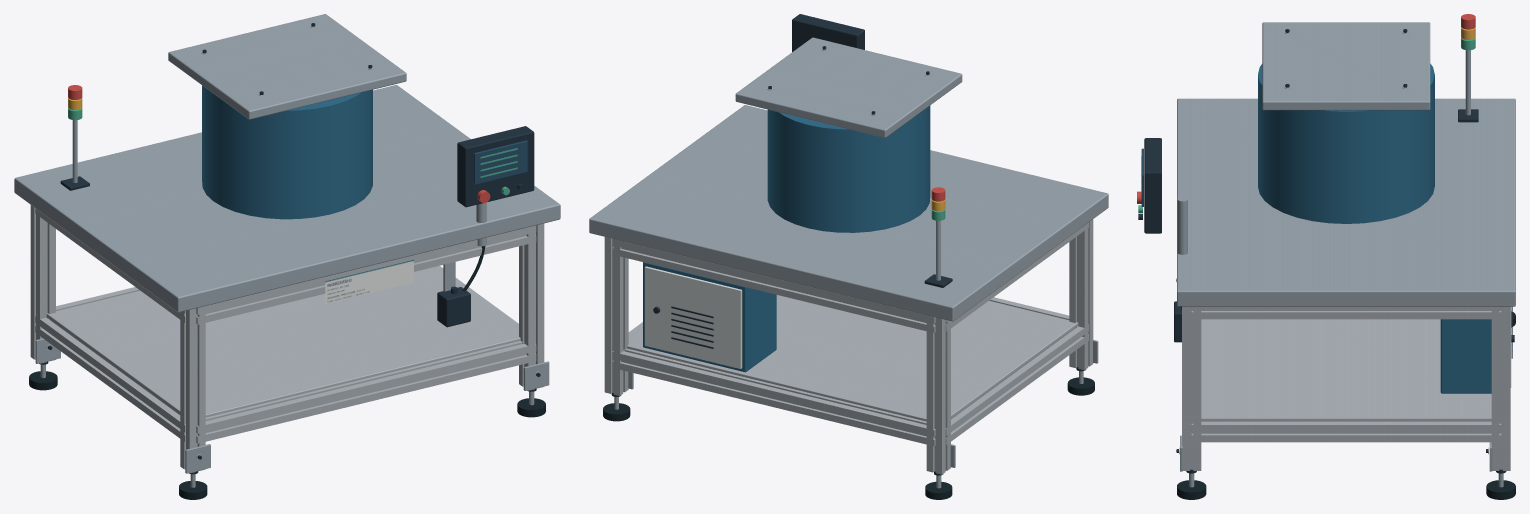
The model's file is vibration-test-cell.glb.
3 renders of one model, left to right at view 1: azimuth 30°, elevation 25°; view 2: azimuth 150°, elevation 25°; view 3: azimuth 270°, elevation 25°, orthographic. The views are drawn at different scales.
Visible parts, largest first — view 1: ClosedMachineBed_40, LowerShelf_41, ShakerBody_71, SpecimenTable_72, SlottedExtrusion_34, SlottedExtrusion_35, SlottedExtrusion_11, SlottedExtrusion_36, SlottedExtrusion_27, ConsoleBack_52, SlottedExtrusion_3, OriginalNameplate_65 (+5 smaller); view 2: ClosedMachineBed_40, LowerShelf_41, ShakerBody_71, SpecimenTable_72, BackDoor_43, SlottedExtrusion_32, SlottedExtrusion_33, SlottedExtrusion_3, SlottedExtrusion_19, Cabinet_42, SlottedExtrusion_36, SlottedExtrusion_11 (+2 smaller); view 3: ClosedMachineBed_40, LowerShelf_41, ShakerBody_71, SpecimenTable_72, SlottedExtrusion_38, SlottedExtrusion_39, Cabinet_42, SlottedExtrusion_27, SlottedExtrusion_19, ConsoleBack_52, ConsoleBracket_51, RubberFoot_16 (+1 smaller).
Boxes of the visible parts, <box> form: ClosedMachineBed_40: <box>14,85,560,312</box>; LowerShelf_41: <box>46,267,520,417</box>; ShakerBody_71: <box>202,85,372,219</box>; SpecimenTable_72: <box>168,14,406,119</box>; SlottedExtrusion_34: <box>196,341,536,443</box>; SlottedExtrusion_35: <box>196,225,536,324</box>; SlottedExtrusion_11: <box>180,306,205,473</box>; SlottedExtrusion_36: <box>35,315,185,442</box>; SlottedExtrusion_27: <box>519,223,544,390</box>; ConsoleBack_52: <box>457,126,534,207</box>; SlottedExtrusion_3: <box>30,205,55,363</box>; OriginalNameplate_65: <box>325,260,413,304</box>; ClosedMachineBed_40: <box>589,105,1108,321</box>; LowerShelf_41: <box>627,295,1078,421</box>; ShakerBody_71: <box>767,105,930,232</box>; SpecimenTable_72: <box>735,37,962,137</box>; BackDoor_43: <box>644,266,742,368</box>; SlottedExtrusion_32: <box>612,348,935,446</box>; SlottedExtrusion_33: <box>612,238,935,332</box>; SlottedExtrusion_3: <box>926,315,950,474</box>; SlottedExtrusion_19: <box>604,237,628,395</box>; Cabinet_42: <box>643,262,776,372</box>; SlottedExtrusion_36: <box>945,324,1088,444</box>; SlottedExtrusion_11: <box>1069,219,1093,370</box>; ClosedMachineBed_40: <box>1177,98,1515,306</box>; LowerShelf_41: <box>1201,319,1491,421</box>; ShakerBody_71: <box>1258,63,1434,223</box>; SpecimenTable_72: <box>1262,22,1430,110</box>; SlottedExtrusion_38: <box>1191,421,1501,442</box>; SlottedExtrusion_39: <box>1191,306,1501,319</box>; Cabinet_42: <box>1440,319,1491,393</box>; SlottedExtrusion_27: <box>1182,306,1201,470</box>; SlottedExtrusion_19: <box>1491,306,1510,470</box>; ConsoleBack_52: <box>1144,138,1161,233</box>; ConsoleBracket_51: <box>1177,197,1187,254</box>; RubberFoot_16: <box>1486,480,1515,499</box>.
Bounding box in the file's own units: 1.55 × 1.32 × 1.29.
Materials: 11 (3 with a texture image).
